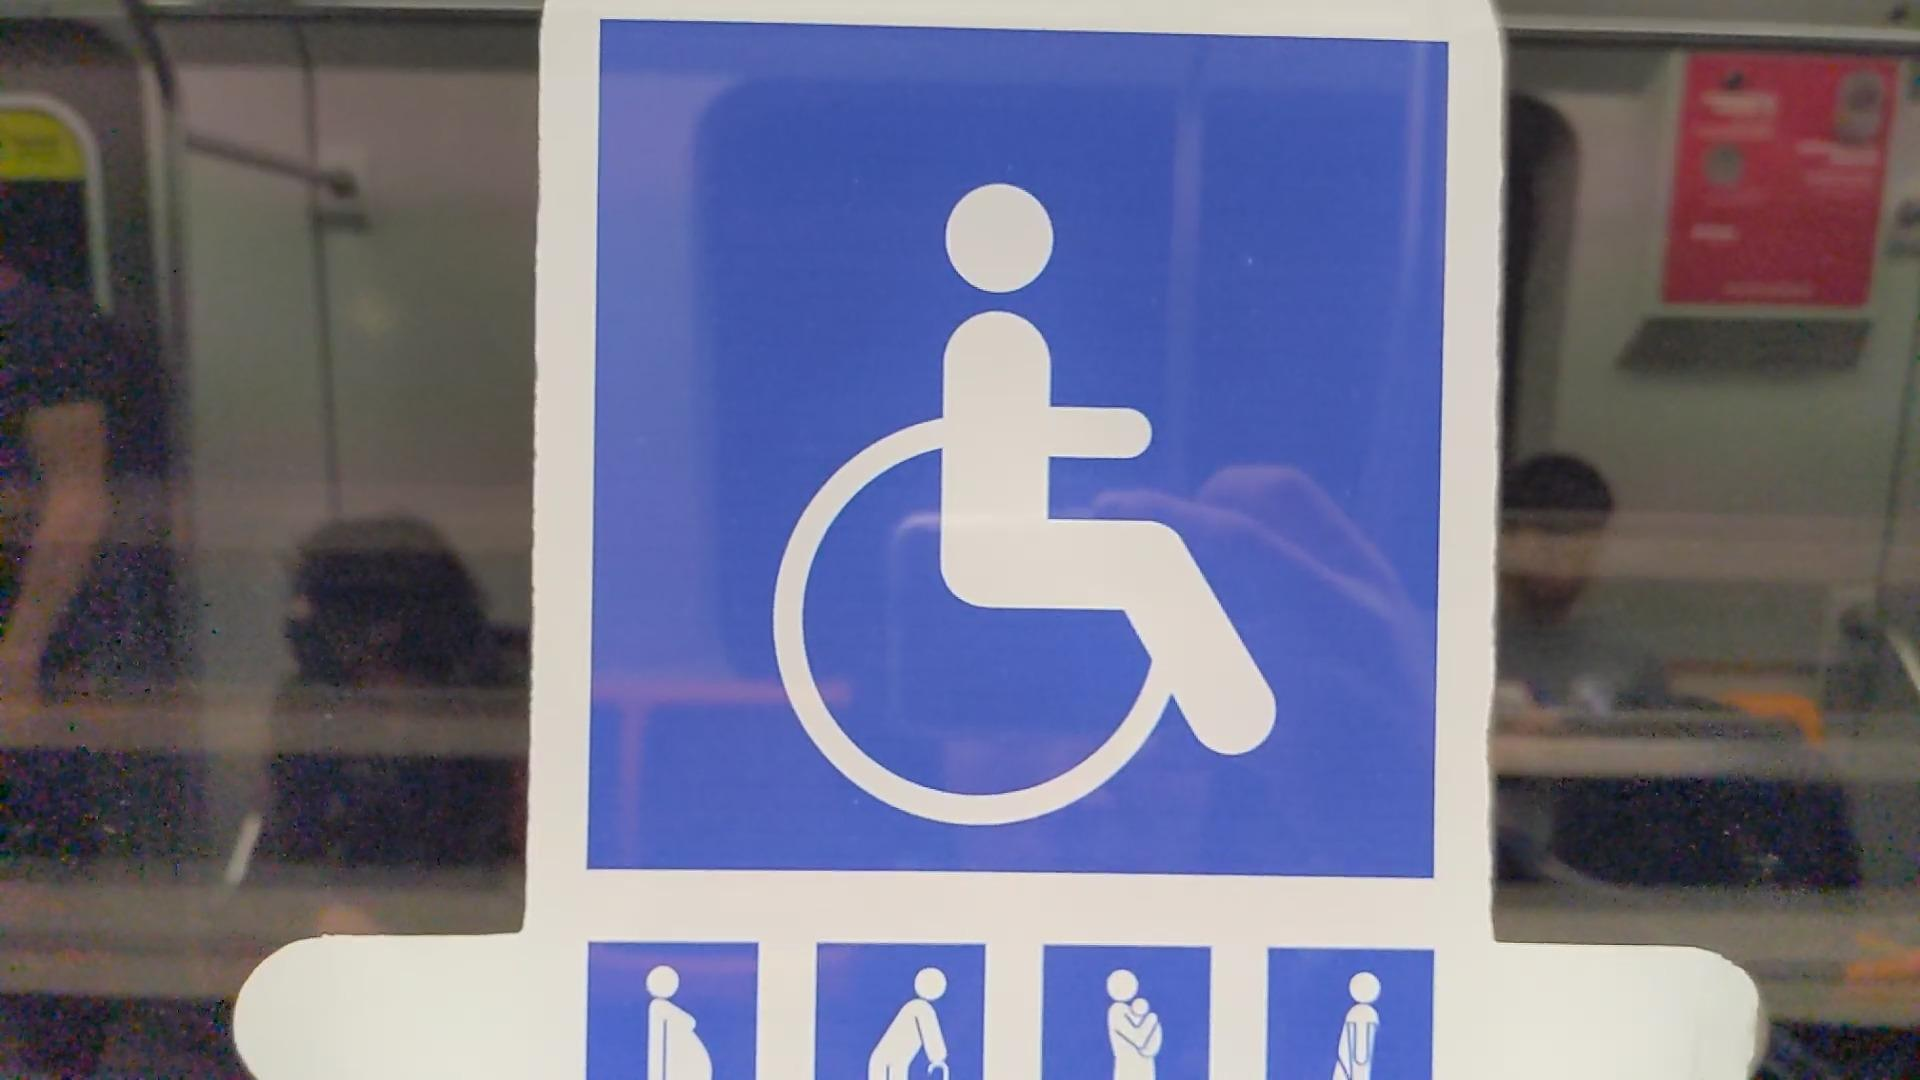handicapped symbol: (766, 173, 1287, 833)
